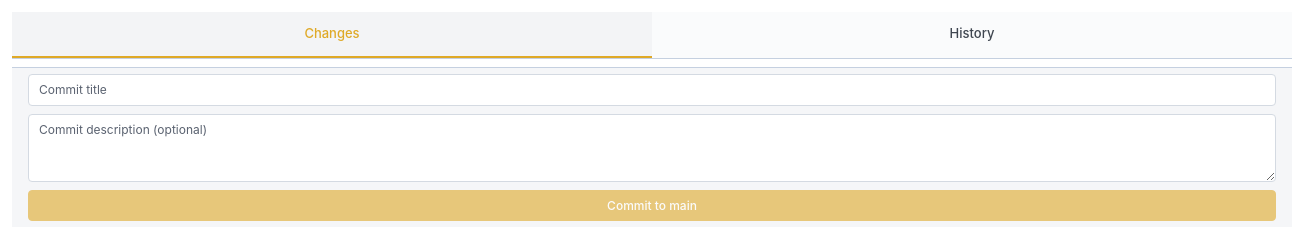
Scenario: TimelineSidebar.vue › 🔬 History Tab Coverage › should render history tab content when history tab is active
Click the button with class "tab-button" showing "History".
click(972, 35)  # box [652,12,1292,58]
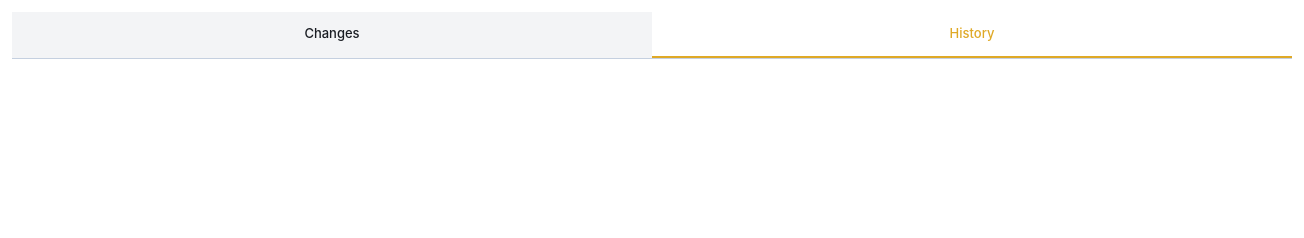
Expected: the element with class "history-content" is shown, [12,58,1292,74]
